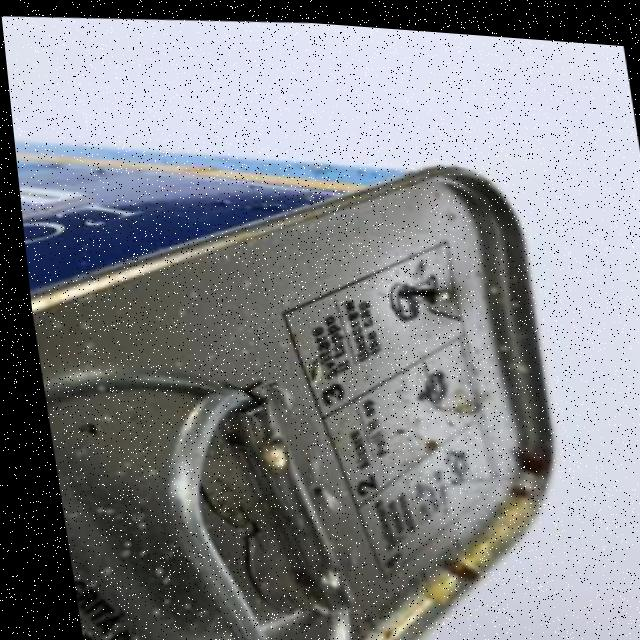metal: (9, 113, 592, 640)
